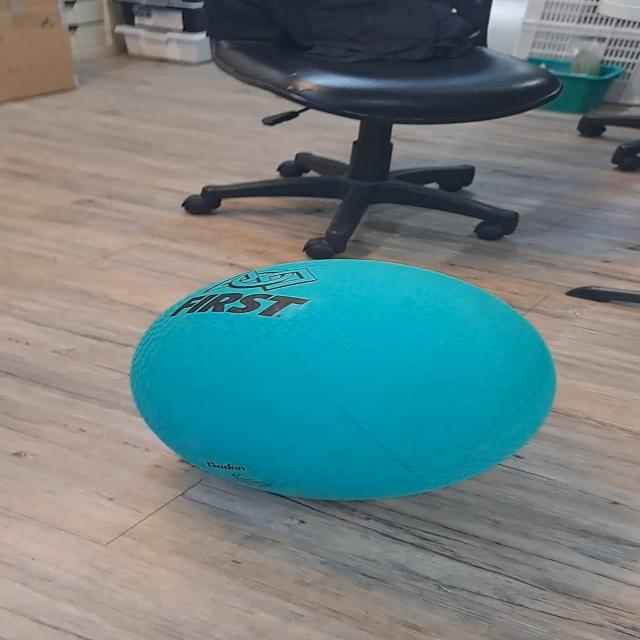ALGAE: (126, 256, 558, 502)
